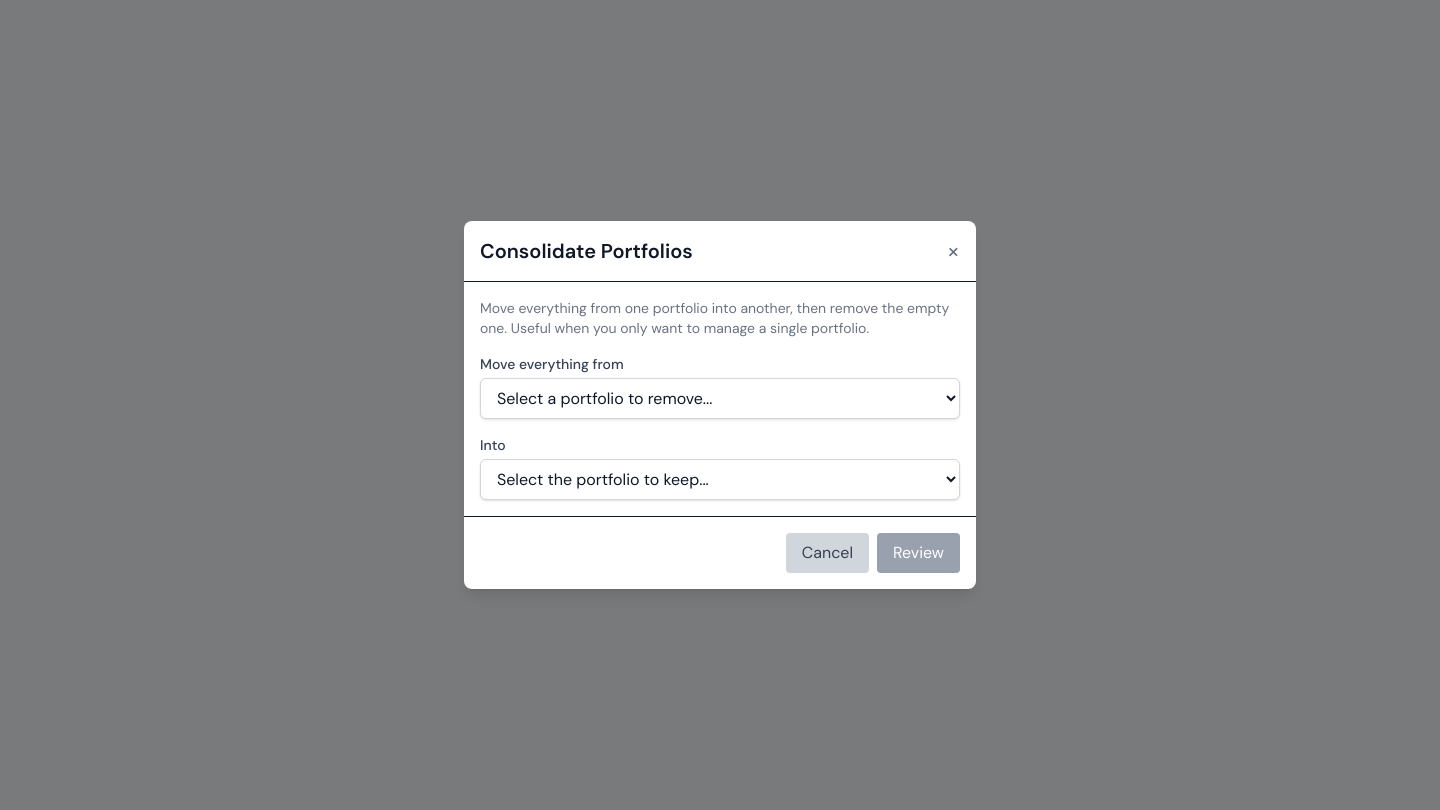
ConsolidatePortfoliosDialog › disables Review until a distinct source and target are chosen
The image size is (1440, 810).
Expected: the button "Review" is disabled, [877, 533, 960, 573]
Select "MAIN — Main" in the dropdown labelled "Move everything from": (720, 398) [480, 378, 960, 419]
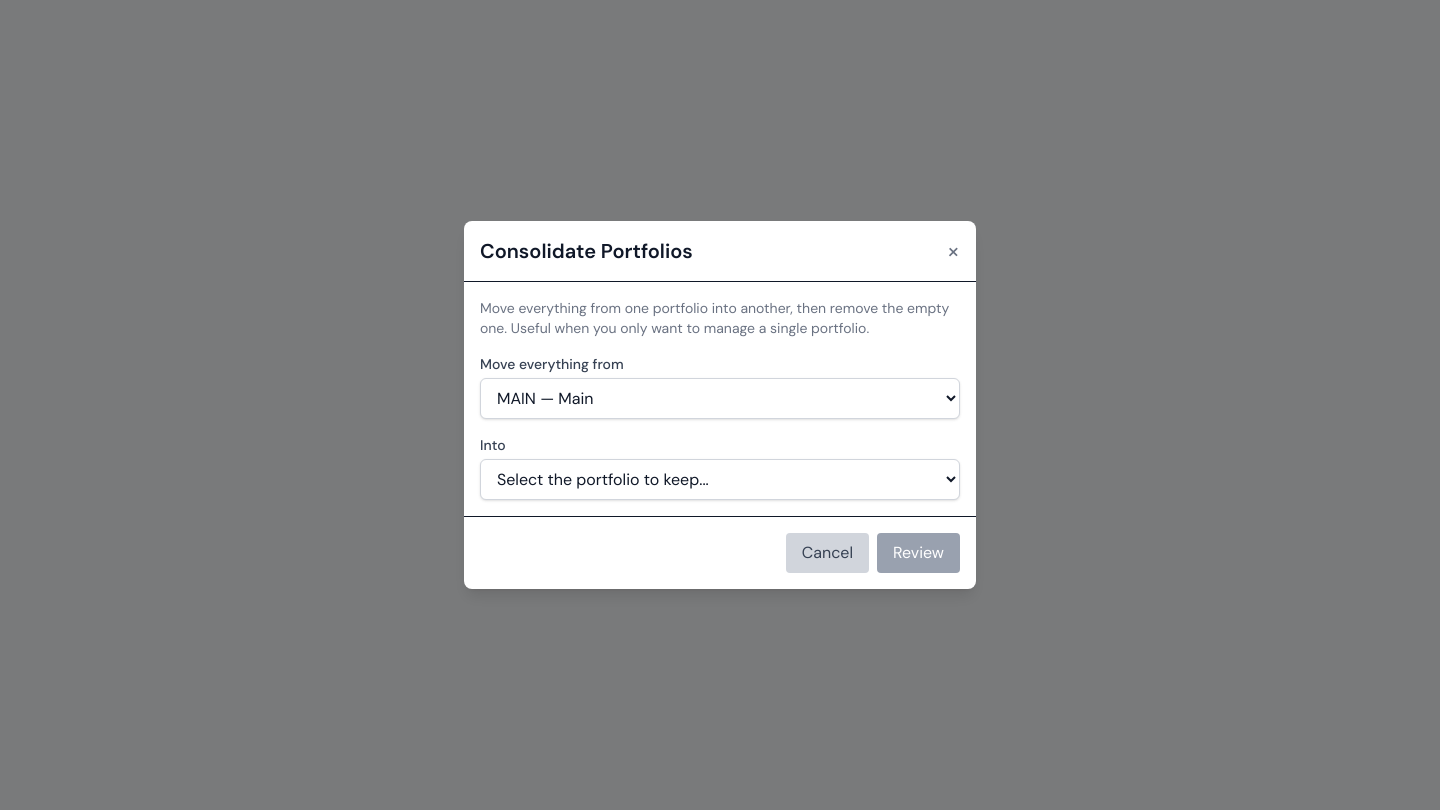
Expected: the button "Review" is disabled, [877, 533, 960, 573]
Select "SIDE — Side" in the dropdown labelled "Into": (720, 480) [480, 459, 960, 500]
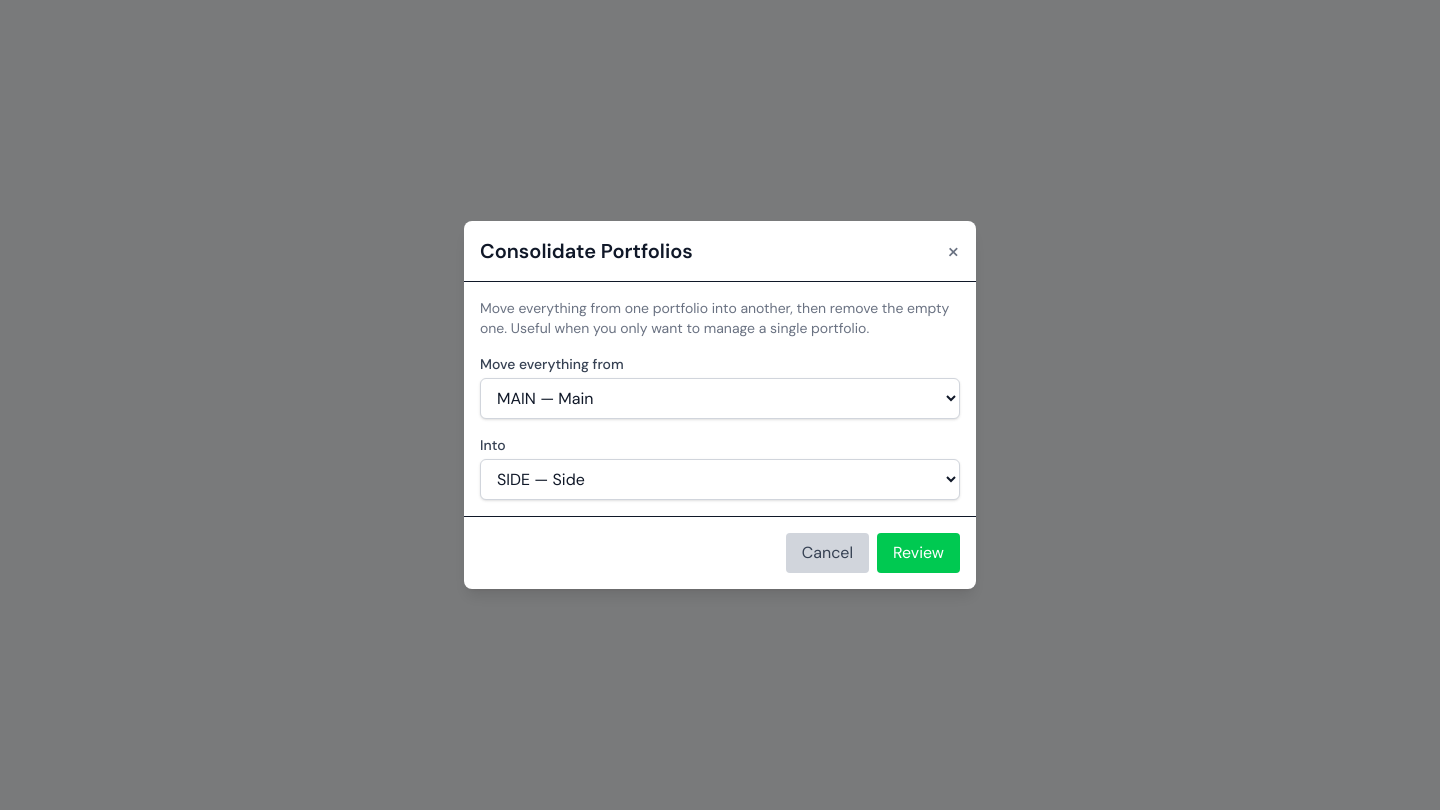
Expected: the button "Review" is enabled, [877, 533, 960, 573]
